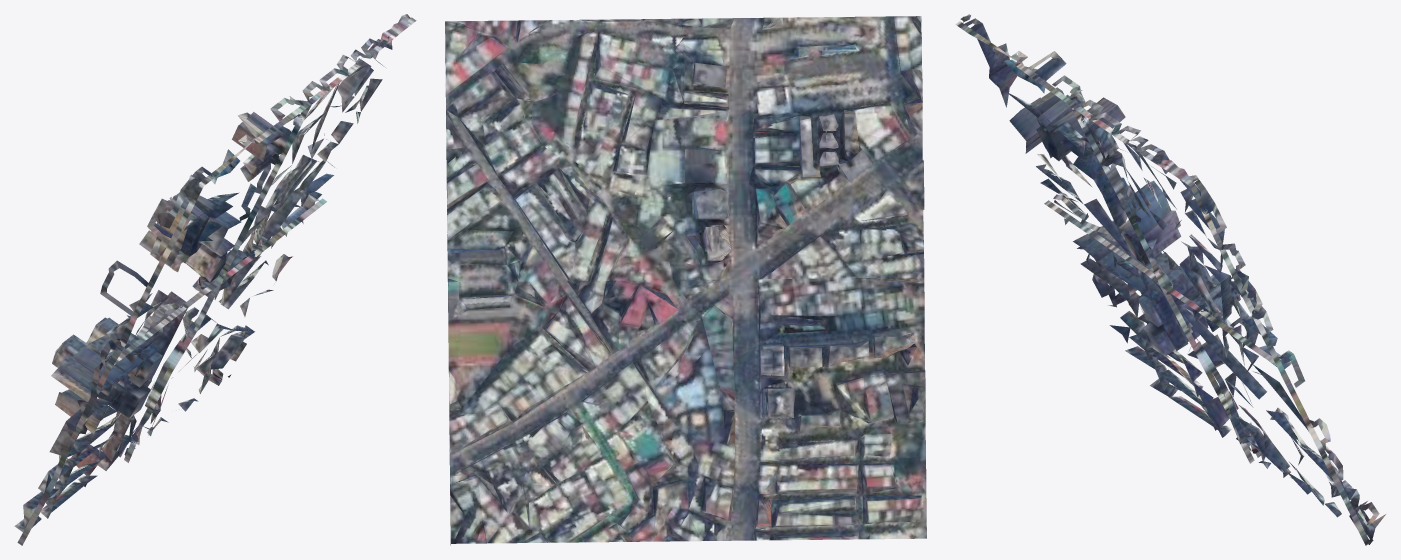
3 renders of one model, left to right at view 1: azimuth 30°, elevation 25°; view 2: azimuth 150°, elevation 25°; view 3: azimuth 270°, elevation 25°, orthographic. The views are drawn at different scales.
Size of the model in its own units: 611 by 573 by 533.
1 material, 1 textured.
